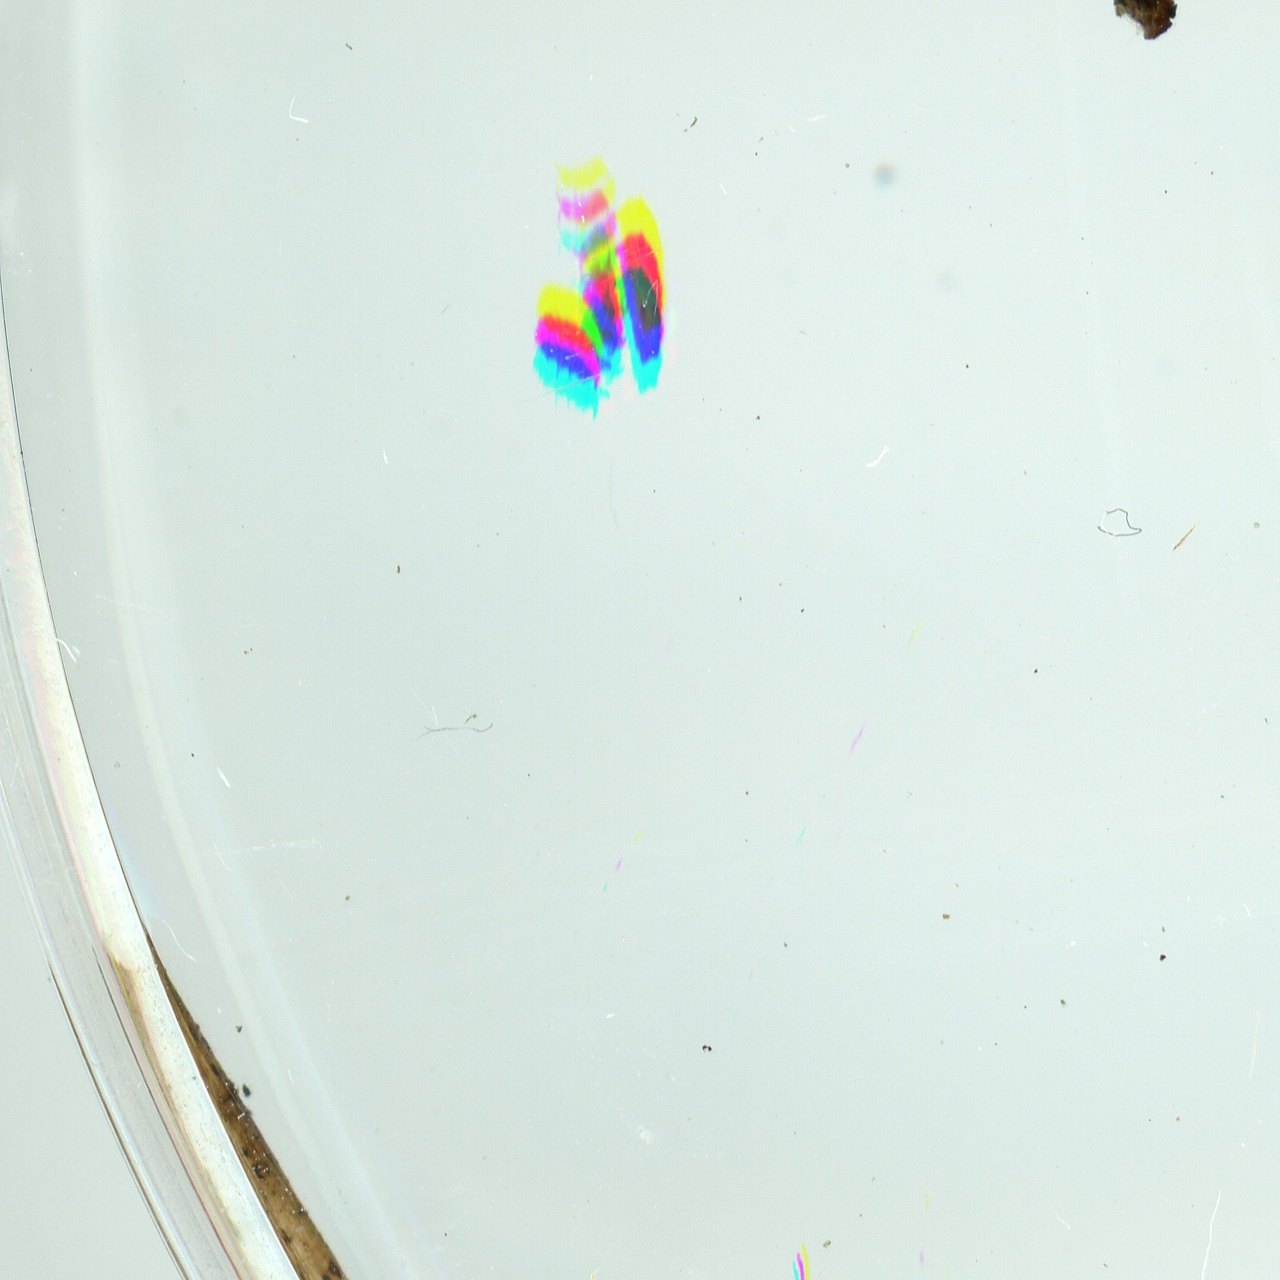arthropod: (530, 278, 617, 426), (612, 194, 670, 397), (566, 246, 644, 362), (551, 158, 614, 251)
